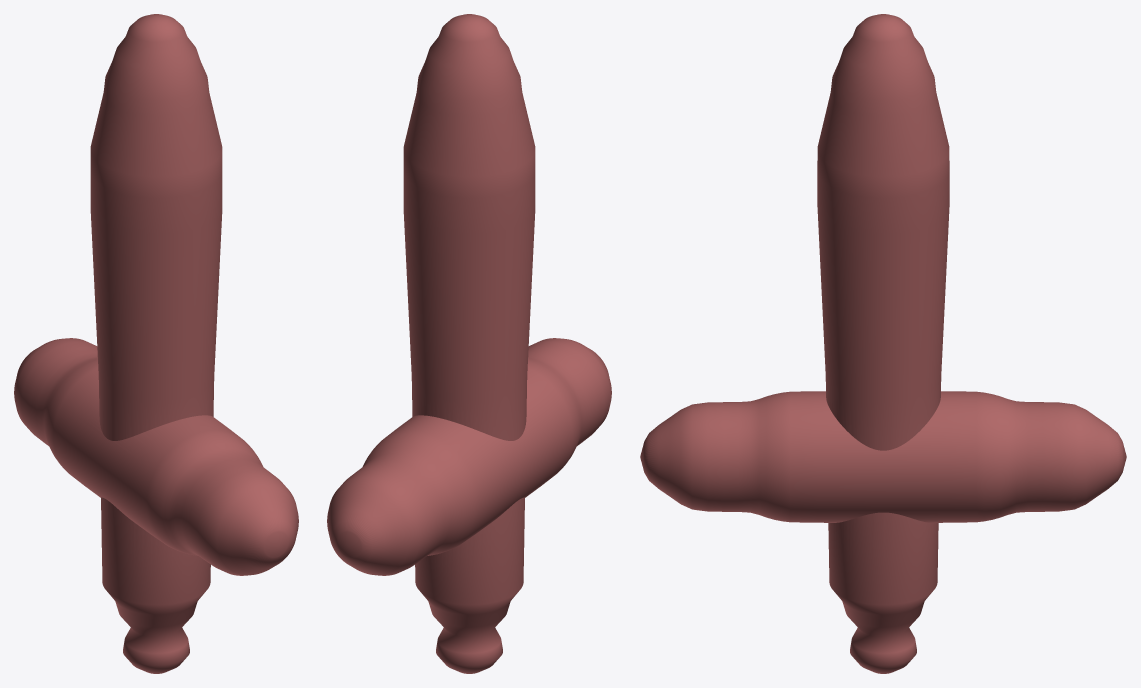
The model's file is GGJ_BalloonSword_2.fbx.
3 renders of one model, left to right at view 1: azimuth 30°, elevation 25°; view 2: azimuth 150°, elevation 25°; view 3: azimuth 270°, elevation 25°, orthographic.
Visible parts, largest first — view 1: polySurface1; view 2: polySurface1; view 3: polySurface1.
Boxes of the visible parts, left/top/right/bottom form: polySurface1: left=14, top=14, right=298, bottom=673; polySurface1: left=327, top=14, right=611, bottom=673; polySurface1: left=640, top=14, right=1126, bottom=673.
Bounding box in the file's own units: 1.56 × 8.52 × 5.75.
